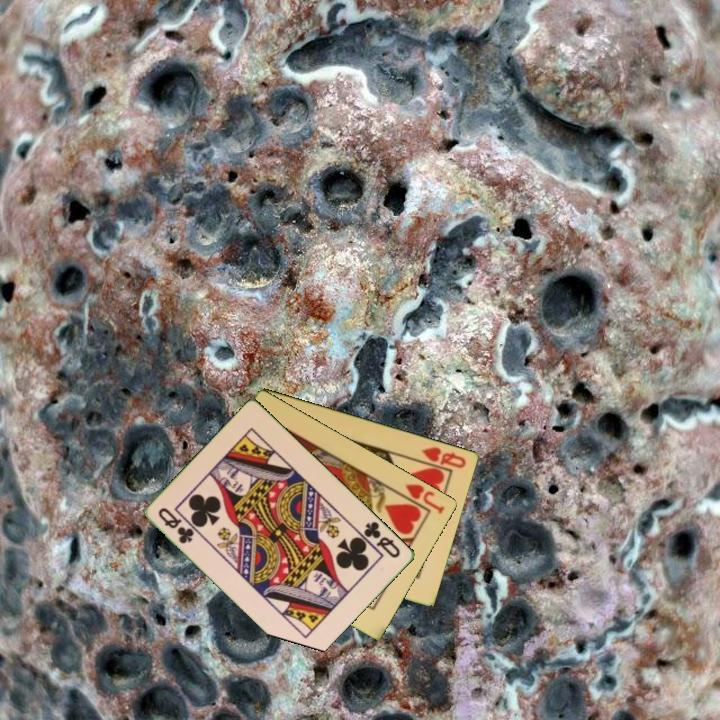Jh: (394, 480, 448, 517)
Qc: (361, 518, 404, 561), (155, 504, 198, 547)
Qh: (418, 443, 469, 471)
